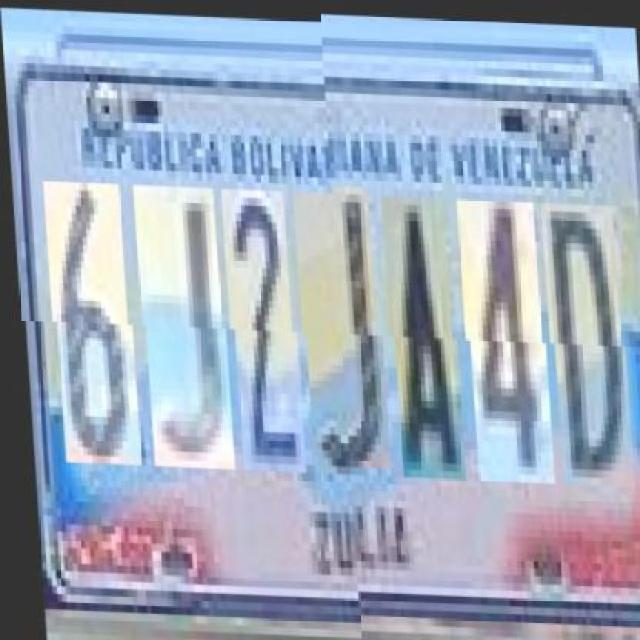2: (223, 187, 300, 470)
4: (458, 202, 550, 487)
6: (46, 180, 136, 465)
a: (383, 201, 460, 484)
d: (543, 206, 629, 489)
j: (134, 183, 229, 468), (294, 189, 384, 473)
